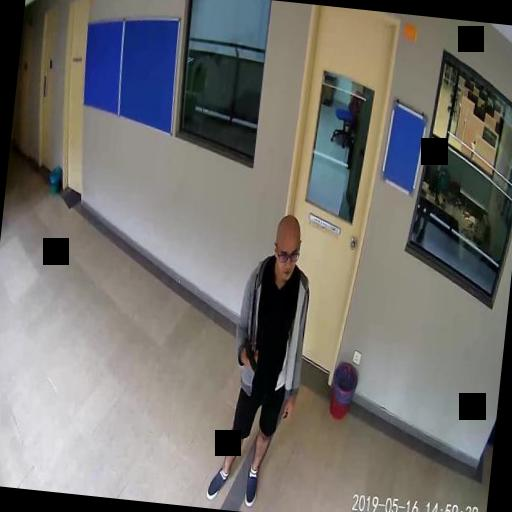Handgun: (241, 338, 258, 370)
